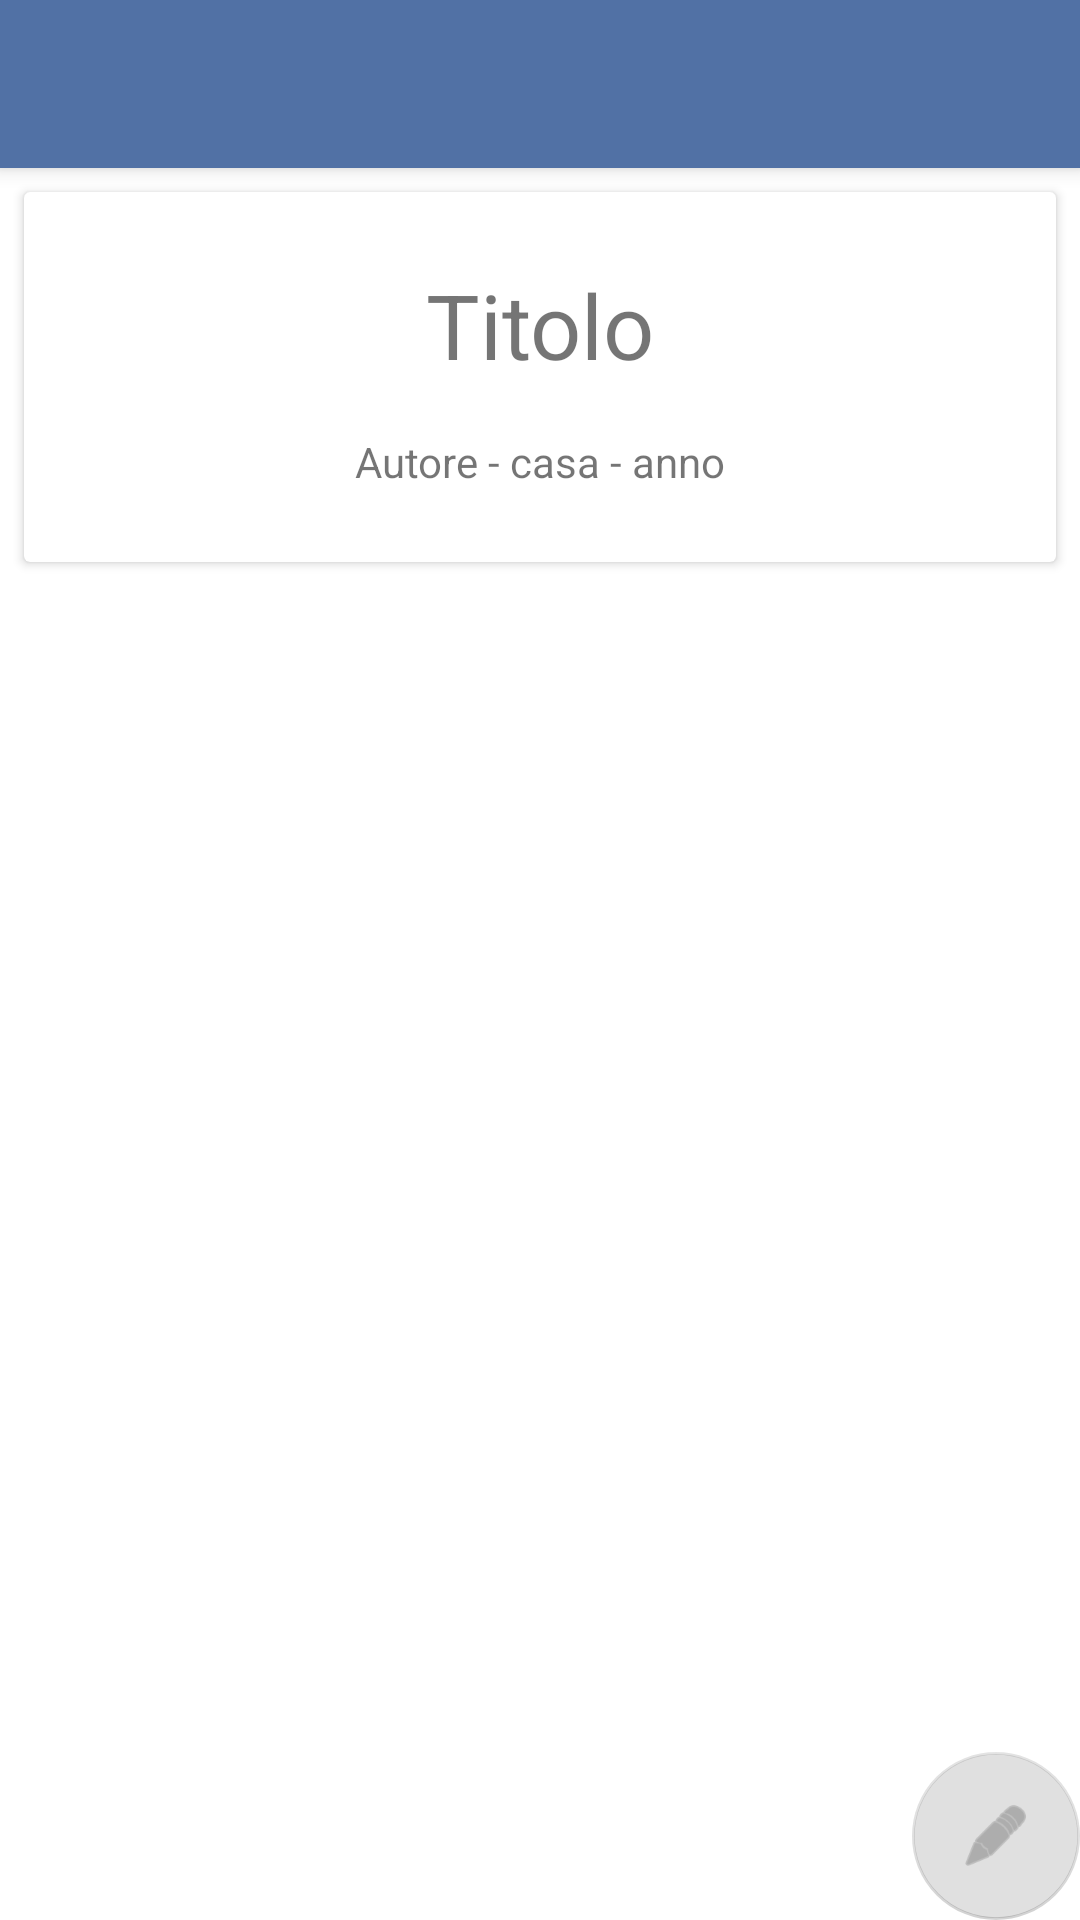

Locate icon controls on the screen. Image size 1080px×1920px, boxes as (left=x1, top=y1, right=x2, bottom=y2).
edit: (left=912, top=1752, right=1080, bottom=1920)
